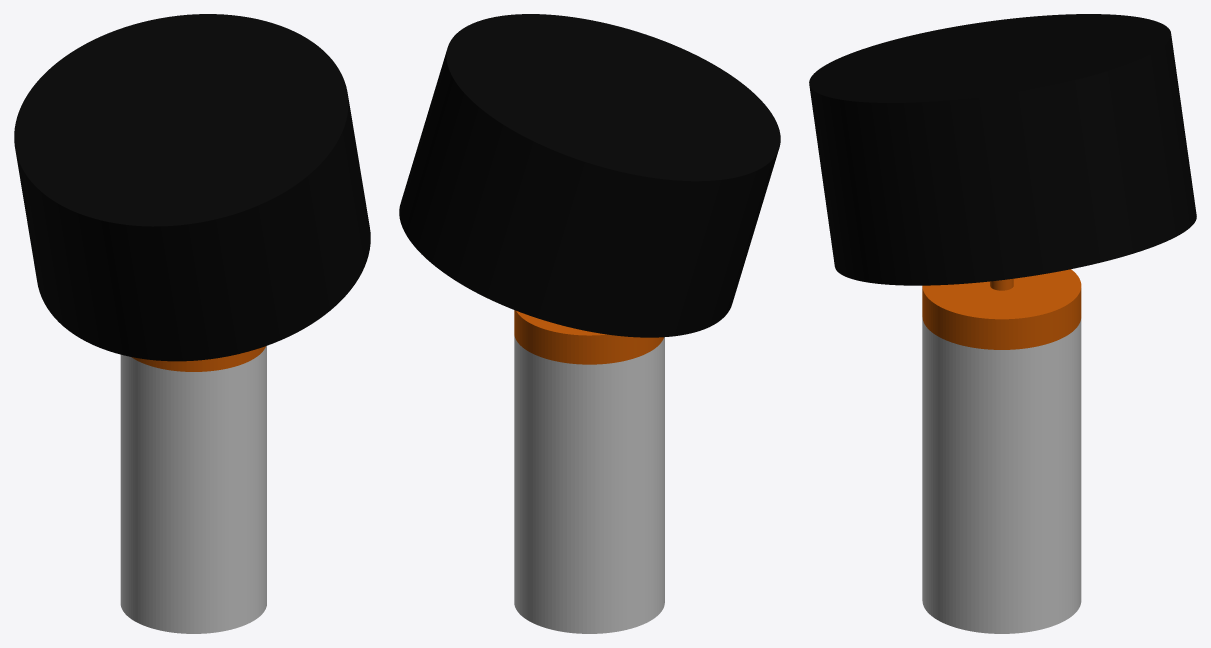
File: lamp8.obj
3 renders of one model, left to right at view 1: azimuth 30°, elevation 25°; view 2: azimuth 150°, elevation 25°; view 3: azimuth 270°, elevation 25°, orthographic. The views are drawn at different scales.
Visible parts, largest first — view 1: Cylinder.002, Cylinder, Cylinder.001; view 2: Cylinder.002, Cylinder, Cylinder.001; view 3: Cylinder.002, Cylinder, Cylinder.001.
Boxes of the visible parts, <box> form: Cylinder.002: <box>14,14,370,361</box>; Cylinder: <box>120,346,266,633</box>; Cylinder.001: <box>131,346,265,371</box>; Cylinder.002: <box>399,14,780,337</box>; Cylinder: <box>514,336,664,633</box>; Cylinder.001: <box>514,310,663,364</box>; Cylinder.002: <box>809,14,1196,285</box>; Cylinder: <box>922,317,1081,633</box>; Cylinder.001: <box>922,269,1081,349</box>.
Size of what is drawn, in the model's own units: 5.02 by 8 by 4.88.
